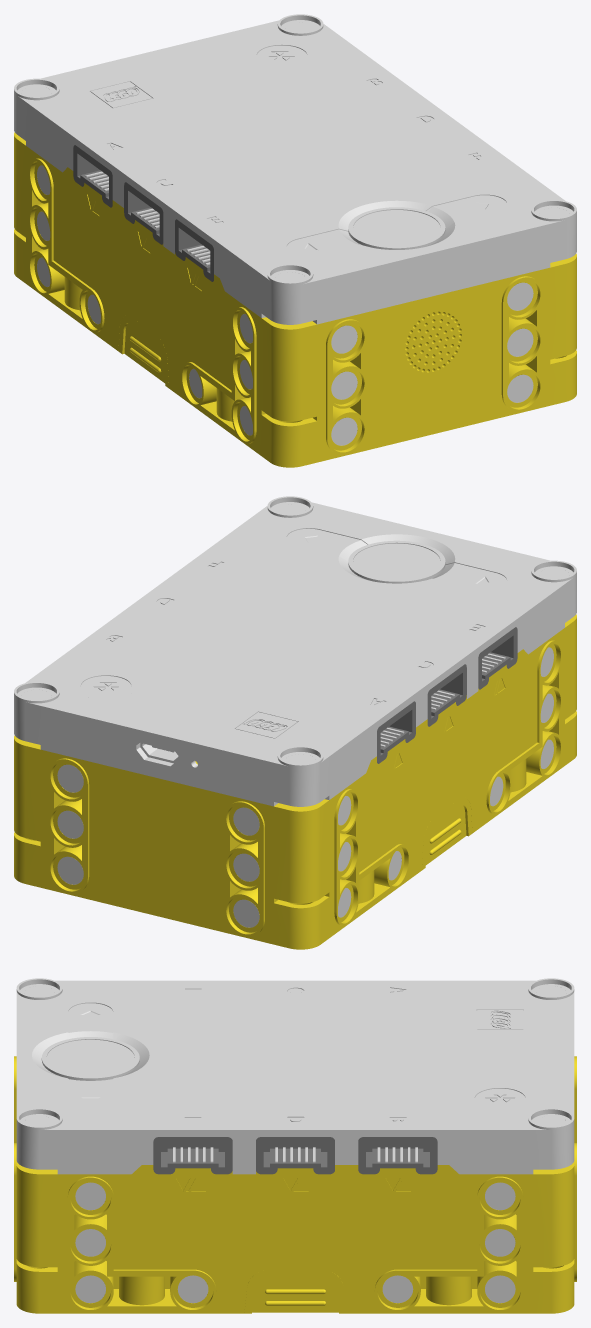
Rendered from ControlHub.fbx.
3 views of the same model, one above another, from view 1: azimuth 30°, elevation 25°; view 2: azimuth 150°, elevation 25°; view 3: azimuth 270°, elevation 25° (orthographic).
Parts seen in each view (by area): view 1: ControlHub, SnapCircle.007, SnapCircle.004, SnapCircle.006, SnapCircle.008, SnapCircle.005, SnapCircle.009; view 2: ControlHub, SnapCircle.033, SnapCircle.034, SnapCircle.037, SnapCircle.038, SnapCircle.036, SnapCircle.035; view 3: ControlHub, SnapCircle.042, SnapCircle.043, SnapCircle.039, SnapCircle.001, SnapCircle.002, SnapCircle.003, SnapCircle.040, SnapCircle.041.
Part boxes in pixels (x1=…): ControlHub: x1=14, y1=14, x2=576, y2=467; SnapCircle.007: x1=331, y1=325, x2=357, y2=353; SnapCircle.004: x1=507, y1=328, x2=533, y2=356; SnapCircle.006: x1=507, y1=374, x2=533, y2=402; SnapCircle.008: x1=331, y1=371, x2=357, y2=399; SnapCircle.005: x1=507, y1=282, x2=533, y2=310; SnapCircle.009: x1=331, y1=417, x2=357, y2=445; ControlHub: x1=14, y1=496, x2=576, y2=949; SnapCircle.033: x1=233, y1=807, x2=259, y2=835; SnapCircle.034: x1=233, y1=853, x2=259, y2=881; SnapCircle.037: x1=57, y1=810, x2=83, y2=838; SnapCircle.038: x1=57, y1=856, x2=83, y2=884; SnapCircle.036: x1=57, y1=764, x2=83, y2=792; SnapCircle.035: x1=233, y1=899, x2=259, y2=927; ControlHub: x1=14, y1=978, x2=576, y2=1313; SnapCircle.042: x1=382, y1=1275, x2=413, y2=1303; SnapCircle.043: x1=177, y1=1275, x2=208, y2=1303; SnapCircle.039: x1=485, y1=1182, x2=515, y2=1210; SnapCircle.001: x1=75, y1=1182, x2=105, y2=1210; SnapCircle.002: x1=75, y1=1229, x2=105, y2=1256; SnapCircle.003: x1=75, y1=1275, x2=105, y2=1303; SnapCircle.040: x1=485, y1=1229, x2=515, y2=1256; SnapCircle.041: x1=485, y1=1275, x2=515, y2=1303.
Size of the model in its own units: 559 by 320 by 877.
